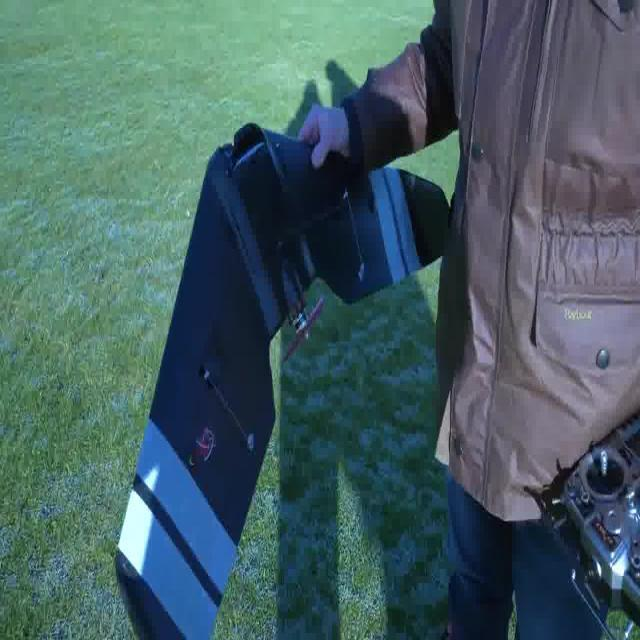iha: (110, 123, 462, 637)
